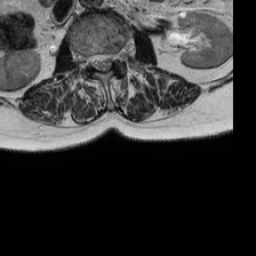CCS_normal: (94, 46, 103, 80)
LFS_normal: (111, 43, 119, 70)
LLS_normal: (103, 47, 111, 75)
RFS_normal: (78, 43, 86, 76)
RLS_normal: (86, 46, 94, 76)
